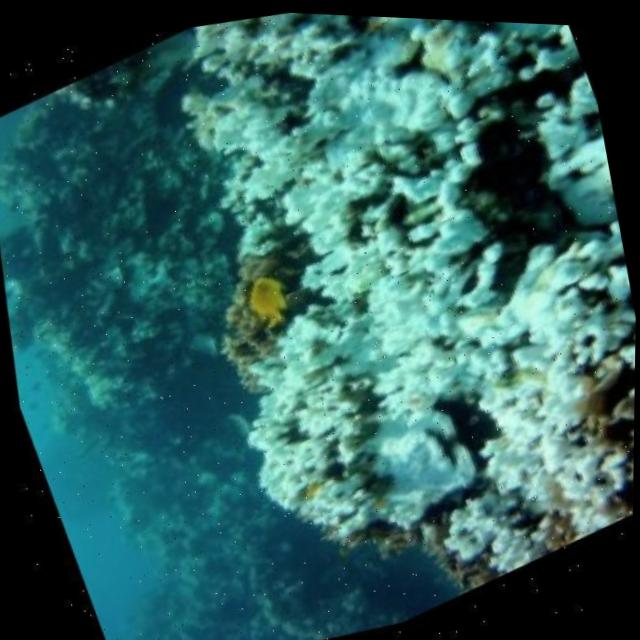Bleached Coral: (157, 6, 640, 581)
